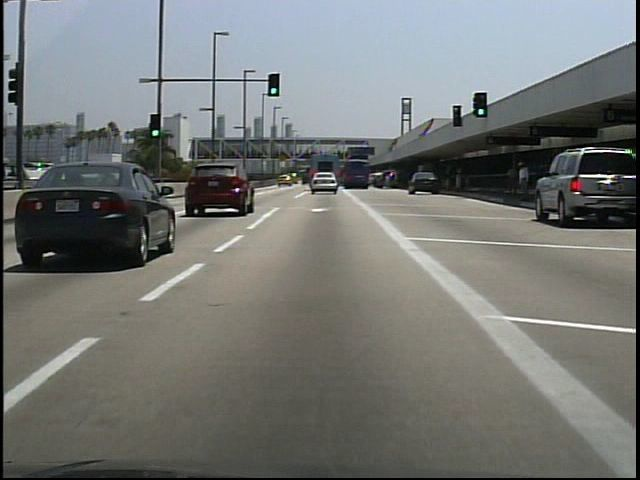person: (512, 156, 533, 205)
